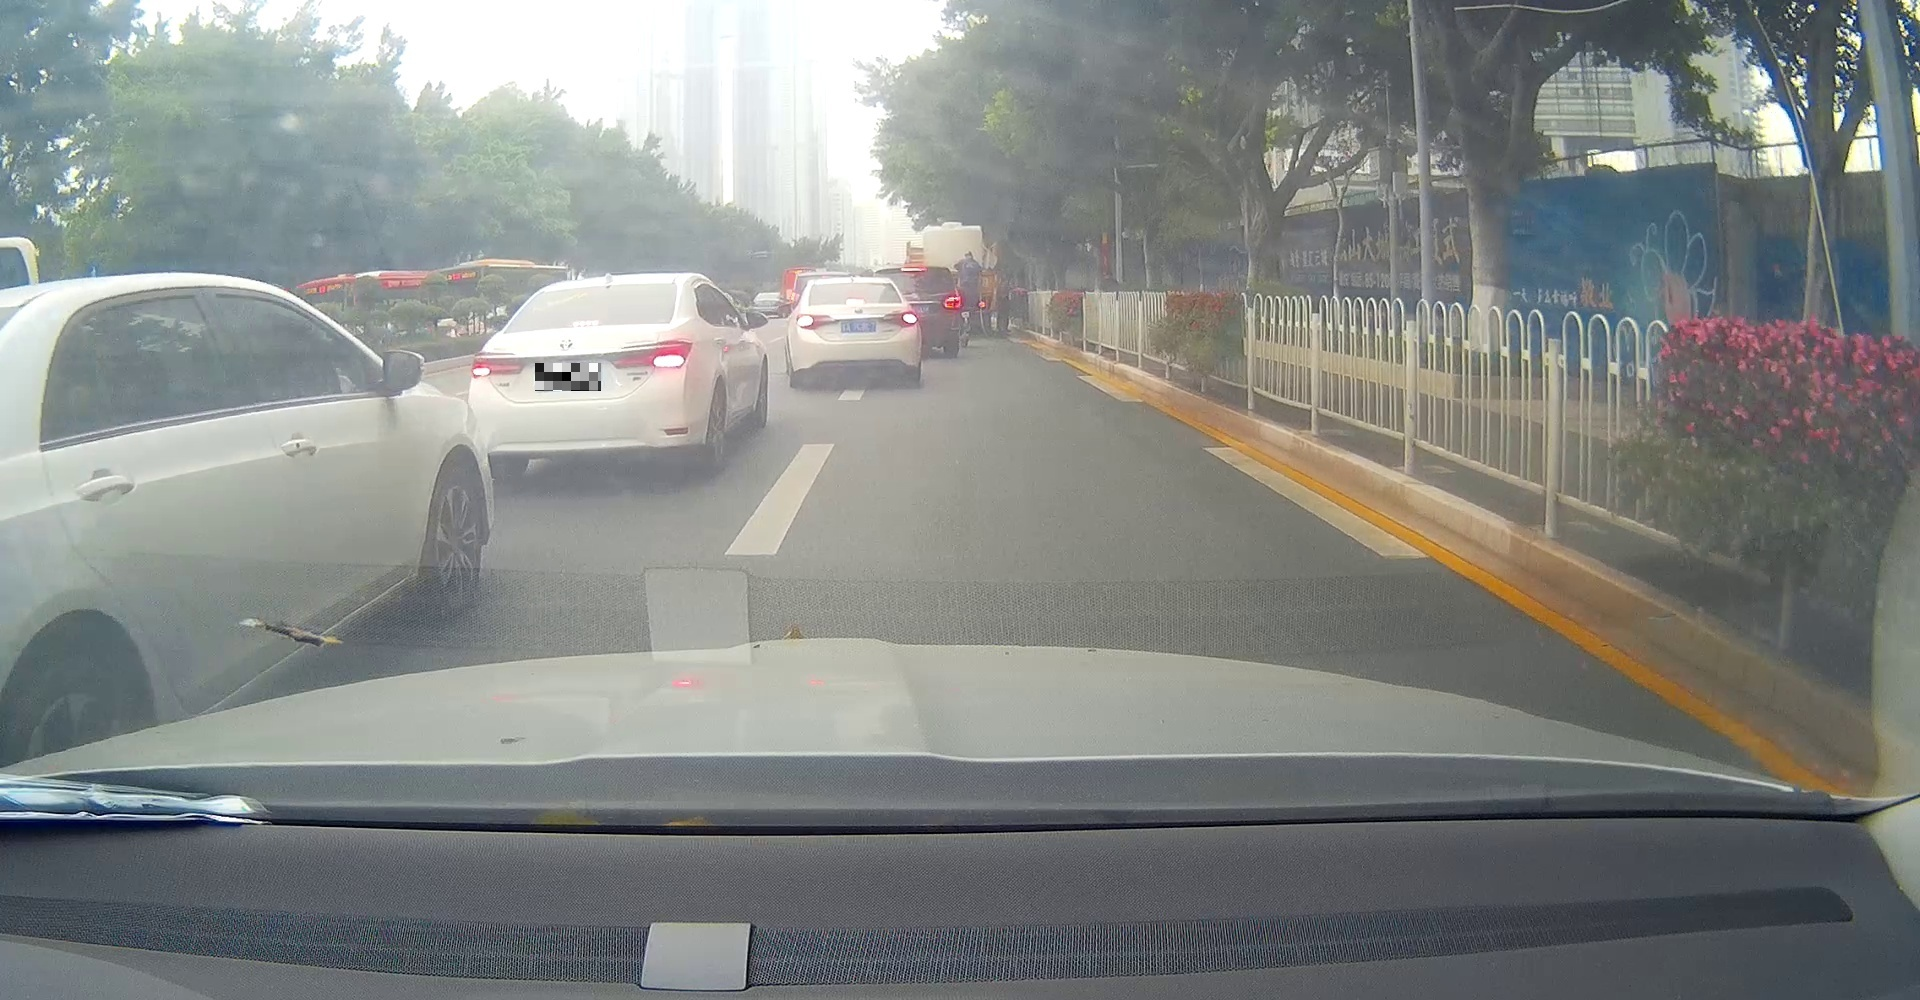L_light: (471, 352, 524, 378), (797, 313, 841, 330)
R_light: (608, 339, 692, 368), (883, 310, 918, 327)
T_light: (571, 319, 599, 326), (846, 299, 865, 305)
day-brake: (469, 273, 695, 481), (795, 277, 921, 387)
plate_1: (535, 363, 601, 391)
